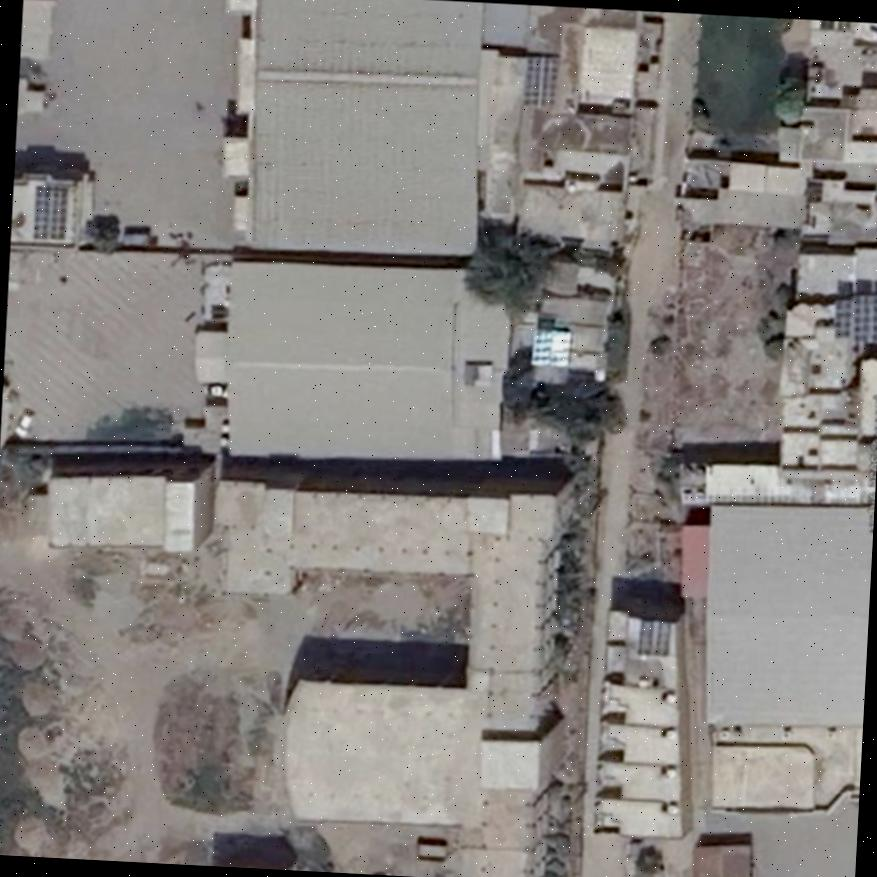Solarpanel: (836, 295, 877, 344), (521, 57, 557, 109), (32, 187, 67, 239), (533, 325, 568, 364), (638, 621, 671, 657)
